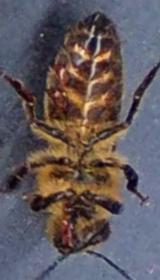varroa_mite: (49, 60, 72, 91), (46, 81, 70, 108)
